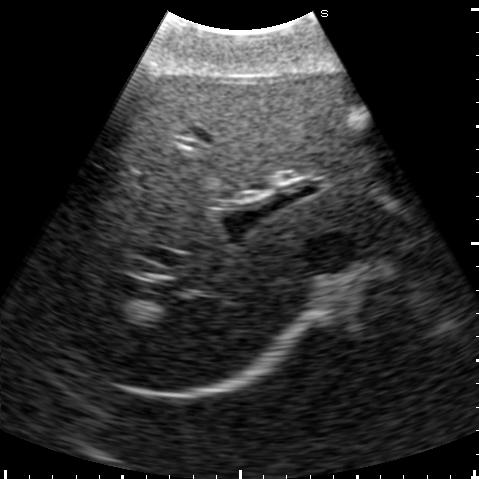IVC: (304, 234, 360, 273)
S1: (318, 194, 417, 256)
S2: (353, 159, 422, 210)
S3: (305, 73, 389, 176)
S4: (129, 70, 340, 198)
Tumor: (125, 301, 160, 325), (346, 108, 368, 128)
